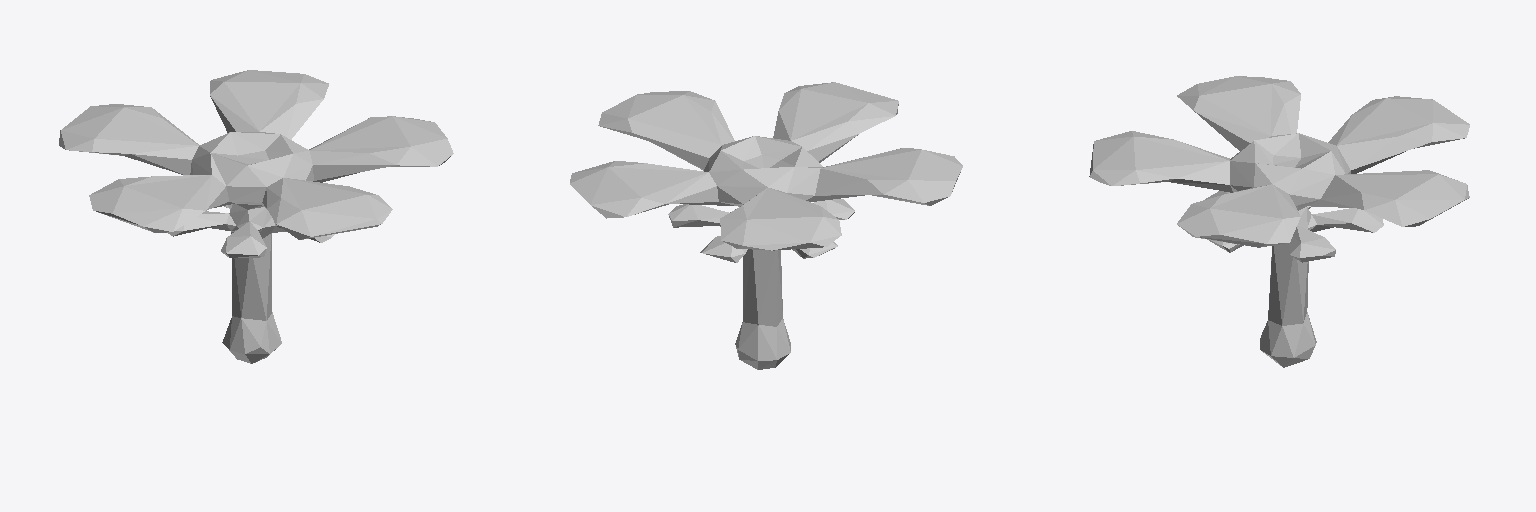
File: FlowerLo.obj
3 views of the same model, side by side, from view 1: azimuth 30°, elevation 25°; view 2: azimuth 150°, elevation 25°; view 3: azimuth 270°, elevation 25° (orthographic).
Parts seen in each view (by area): view 1: Cylinder1_Cylinder1_auv; view 2: Cylinder1_Cylinder1_auv; view 3: Cylinder1_Cylinder1_auv.
Part boxes in pixels (left/top/right/bottom): Cylinder1_Cylinder1_auv: left=59, top=70, right=453, bottom=363; Cylinder1_Cylinder1_auv: left=570, top=82, right=962, bottom=369; Cylinder1_Cylinder1_auv: left=1089, top=76, right=1469, bottom=367.
Size of the model in its own units: 3.61 by 2.12 by 3.45.